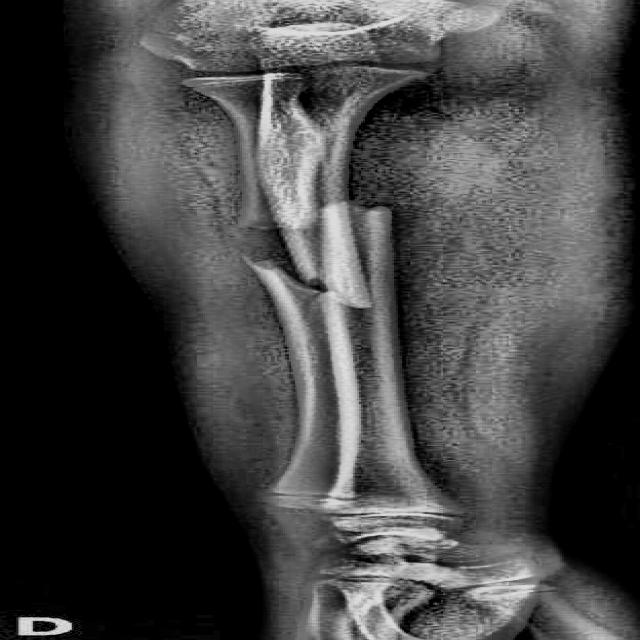messed_up_angle: (234, 196, 400, 316)
